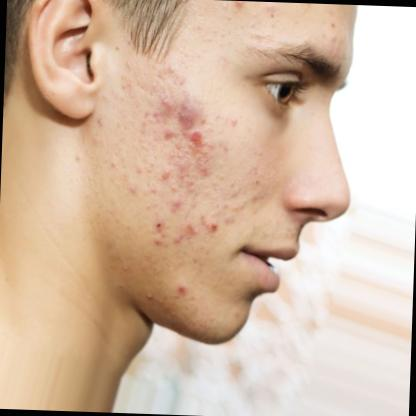Acne: (176, 218, 204, 245), (170, 278, 193, 304), (156, 167, 180, 185), (147, 216, 168, 236), (206, 216, 224, 238)
